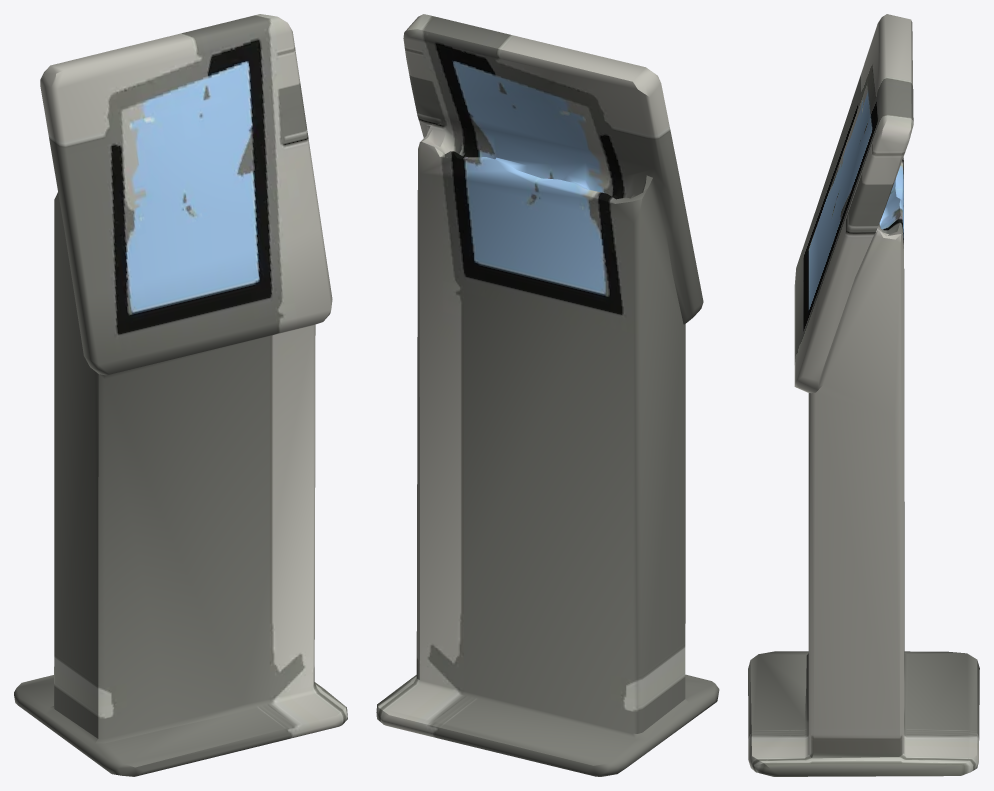
3 views of the same model, side by side, from view 1: azimuth 30°, elevation 25°; view 2: azimuth 150°, elevation 25°; view 3: azimuth 270°, elevation 25° (orthographic). The views are drawn at different scales.
Parts seen in each view (by area): view 1: Decor_info_totem_a; view 2: Decor_info_totem_a; view 3: Decor_info_totem_a.
Part boxes in pixels (bbox=[...]): Decor_info_totem_a: bbox=[14, 14, 347, 776]; Decor_info_totem_a: bbox=[376, 14, 719, 776]; Decor_info_totem_a: bbox=[748, 14, 979, 776].
Bounding box in the file's own units: 0.7658 × 2 × 0.6405.
1 material, 1 textured.
